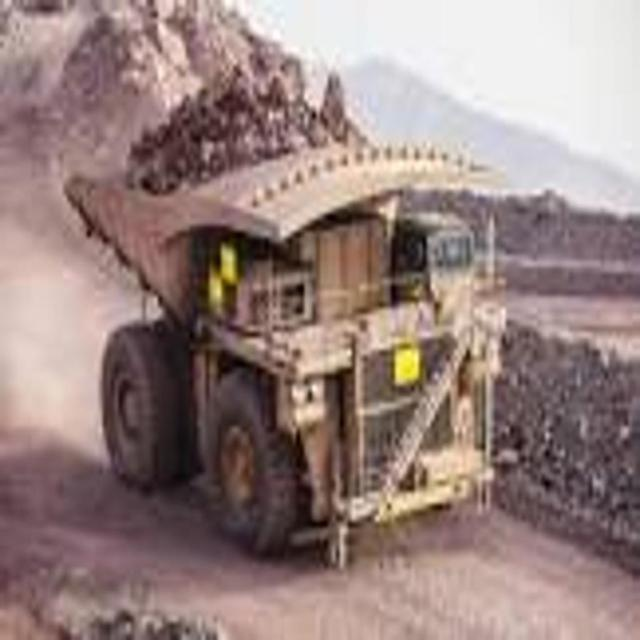dump_truck: (66, 42, 524, 578)
